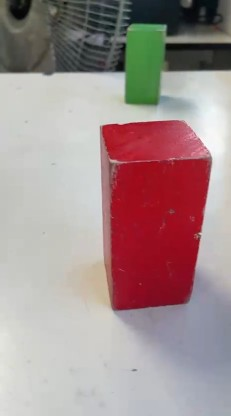red: (102, 134, 194, 301)
